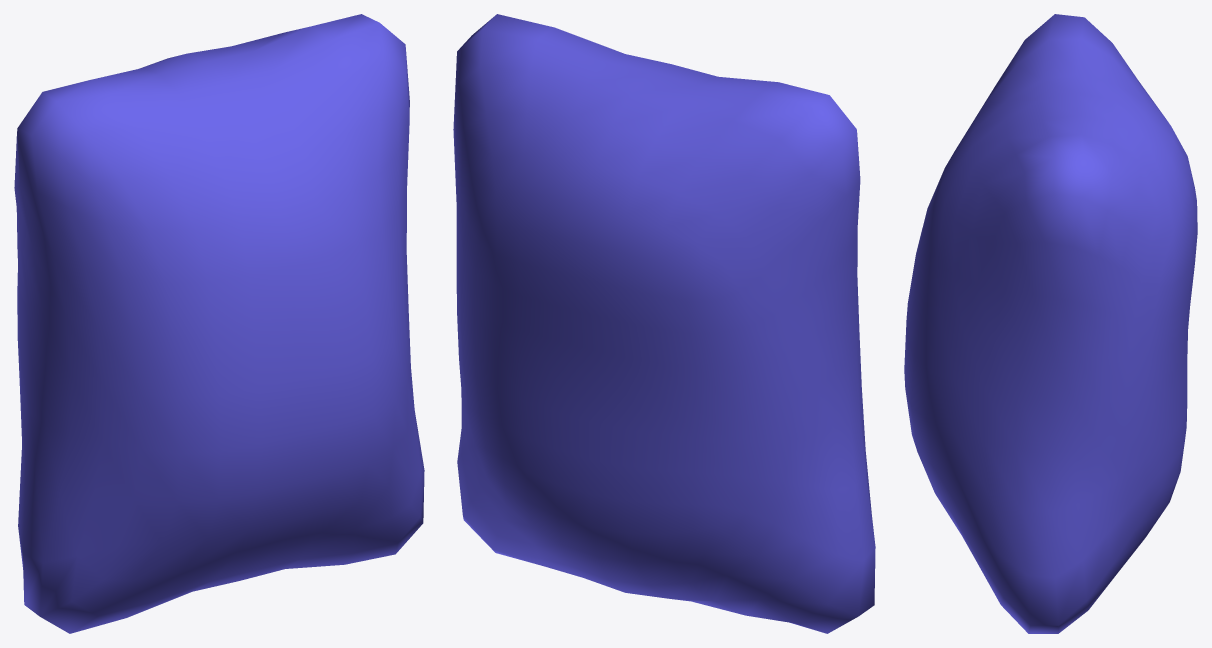
File: Filtration powder.glb
The picture shows the model from 3 angles, left to right: view 1: azimuth 30°, elevation 25°; view 2: azimuth 150°, elevation 25°; view 3: azimuth 270°, elevation 25°; orthographic projection. The views are drawn at different scales.
Visible parts, largest first — view 1: Cube; view 2: Cube; view 3: Cube.
Part boxes in pixels (x1,y1,x2,y2): Cube: (14,14,424,633); Cube: (453,14,875,633); Cube: (904,14,1197,633).
Size of the model in its own units: 0.7668 by 0.9802 by 0.5472.
